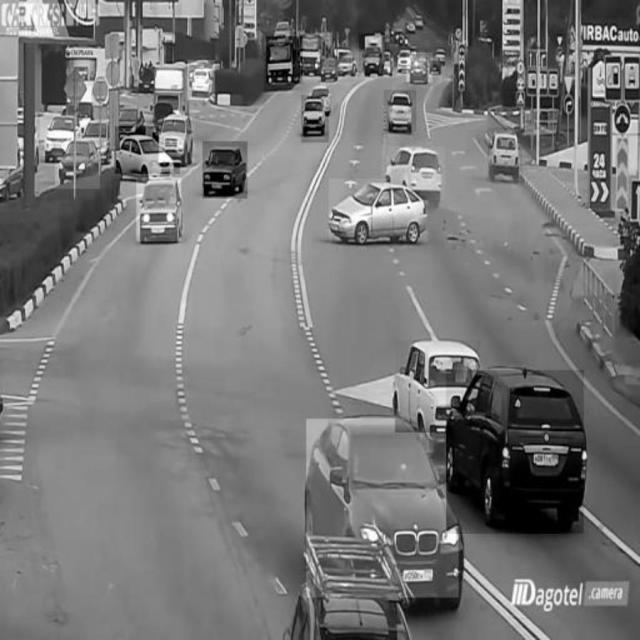vehicle: (307, 419, 459, 597), (447, 370, 584, 534), (395, 341, 479, 433), (330, 179, 428, 243), (387, 146, 445, 200), (115, 127, 179, 174), (136, 177, 181, 241), (202, 142, 248, 199), (55, 137, 101, 189), (488, 128, 523, 179), (159, 115, 195, 162), (40, 113, 78, 157), (267, 36, 303, 82), (384, 91, 416, 132), (302, 96, 329, 143), (359, 34, 389, 75), (188, 61, 215, 101), (407, 52, 433, 82), (322, 50, 342, 80)
